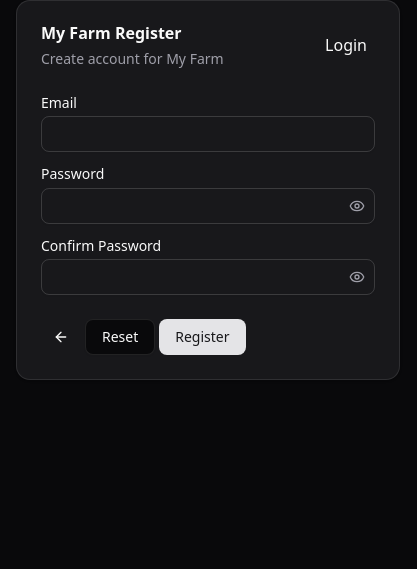
Test: Reg Form Tests › CreateUserAction errors
In the field labelled "Email": [208, 134] box [41,116,375,152], type "test@test.com"
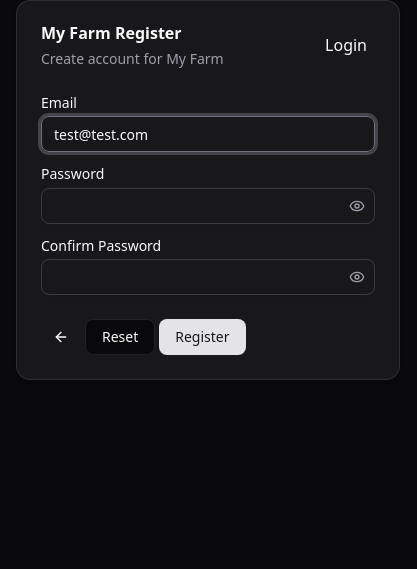
In the password field labelled "Password": [194, 206] box [42,188,345,224], type "Test1test"
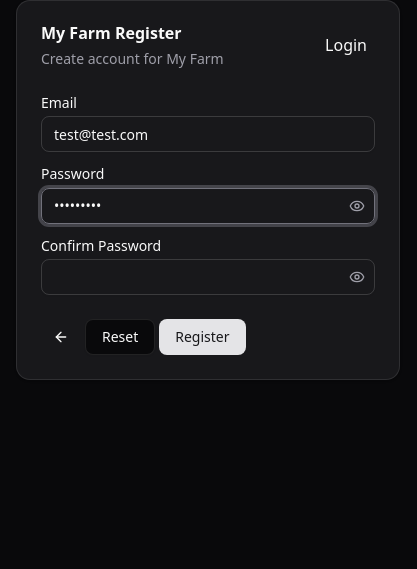
In the password field labelled "Confirm Password": [194, 277] box [42,259,345,295], type "Test1test"
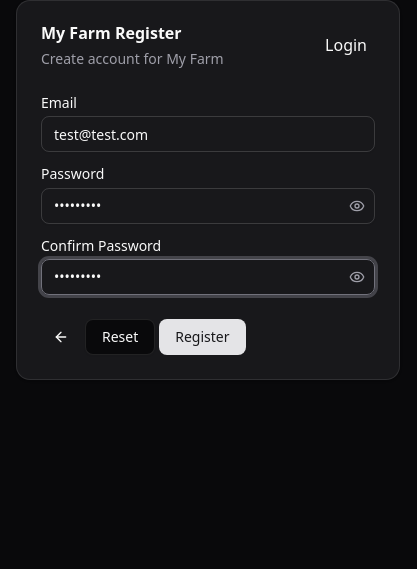
Click the button "Register": [202, 337] box [159,319,246,355]
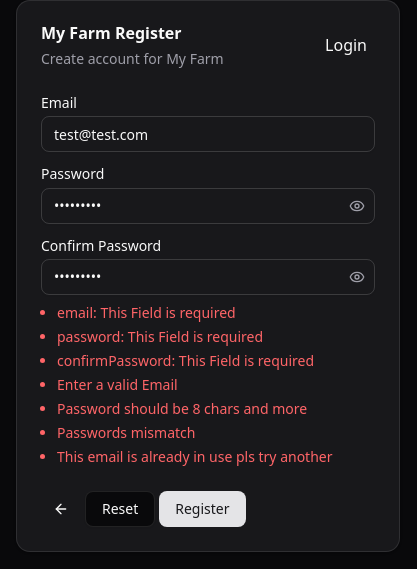
Check: the list item "Enter a valid Email" is shown, box [57,375,178,394]
Check: the list item "Password should be 8 chars and more" is shown, box [57,399,307,418]
Check: the list item "Passwords mismatch" is shown, box [57,423,196,442]
